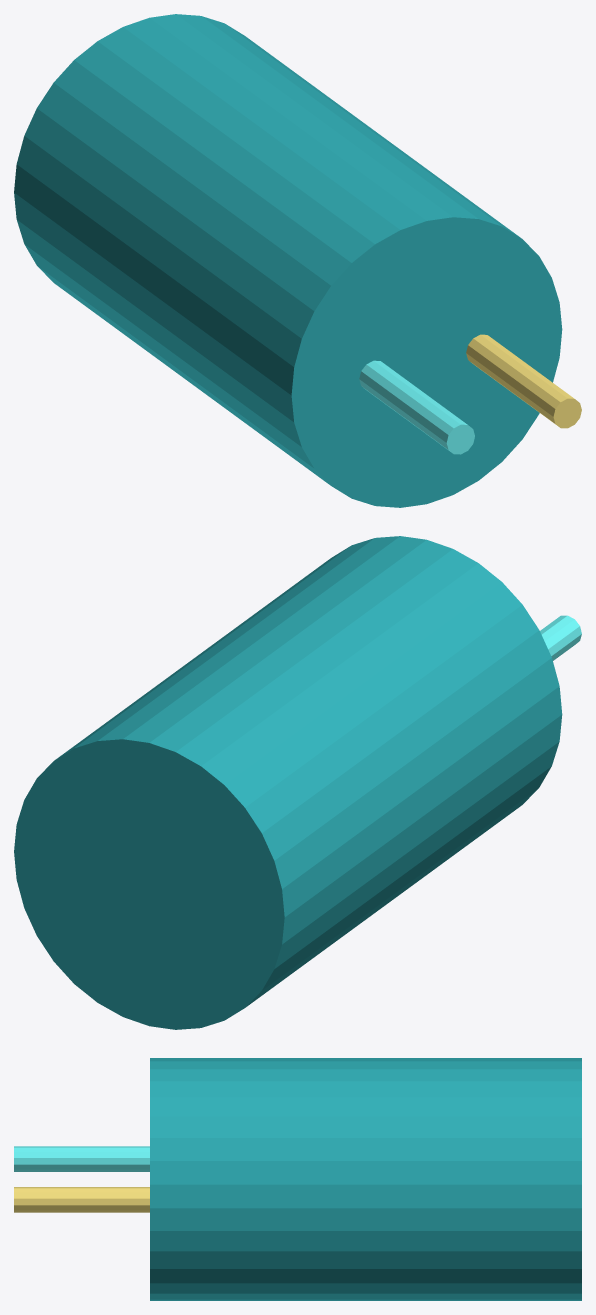
The model's file is water-heater.glb.
3 renders of one model, top to bottom at view 1: azimuth 30°, elevation 25°; view 2: azimuth 150°, elevation 25°; view 3: azimuth 270°, elevation 25°, orthographic. The views are drawn at different scales.
Visible parts, largest first — view 1: world; view 2: world; view 3: world.
Boxes of the visible parts, x1,y1,x2,y2 form: world: [14, 14, 581, 507]; world: [14, 536, 581, 1029]; world: [14, 1058, 581, 1300].
Size of the model in its own units: 0.76 by 0.76 by 1.77.
